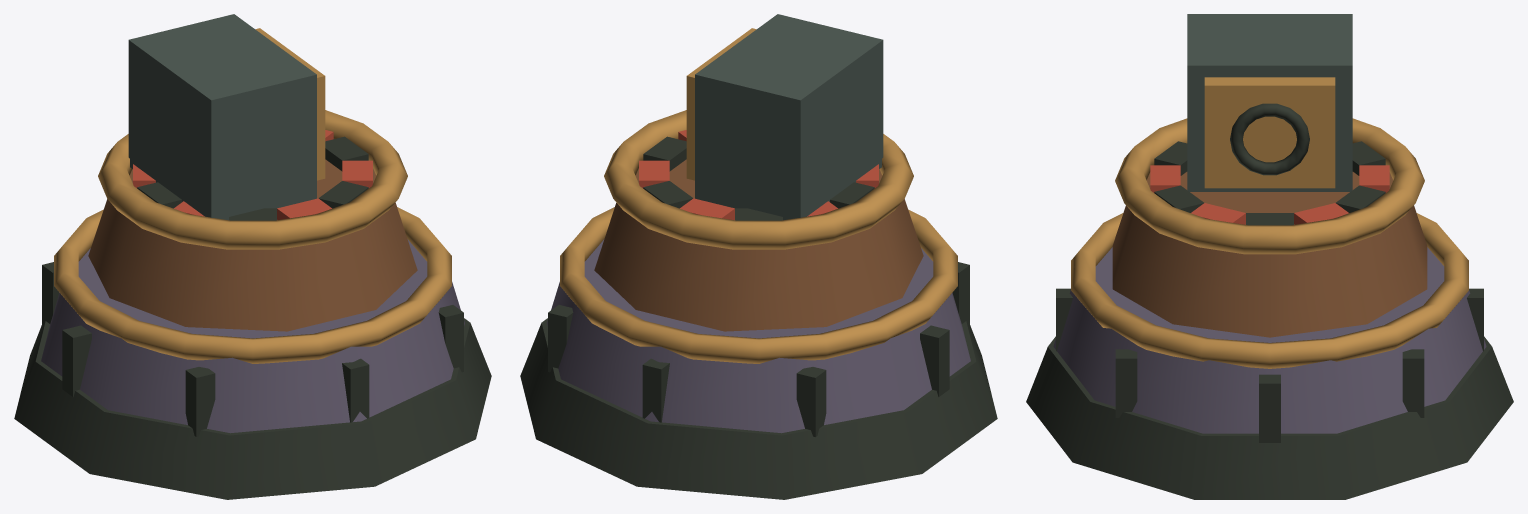
File: tower_gamble_gambleLoaded.glb
3 renders of one model, left to right at view 1: azimuth 30°, elevation 25°; view 2: azimuth 150°, elevation 25°; view 3: azimuth 270°, elevation 25°, orthographic.
Visible parts, largest first — view 1: foot_0, vault_25, stone_1, table_11, rim_2, roulette_rim_12, mortar_6, mortar_7, mortar_5, vault_door_26, mortar_4, pocket_16 (+5 smaller); view 2: foot_0, vault_25, stone_1, table_11, rim_2, roulette_rim_12, mortar_8, mortar_7, mortar_9, vault_door_26, mortar_10, pocket_16 (+5 smaller); view 3: foot_0, stone_1, table_11, vault_25, rim_2, roulette_rim_12, vault_door_26, safe_lock_27, mortar_3, mortar_4, mortar_10, pocket_14 (+10 smaller).
Boxes of the visible parts, x1,y1,x2,y2 form: foot_0: (14, 318, 491, 499); vault_25: (128, 14, 316, 220); stone_1: (41, 239, 464, 433); table_11: (88, 159, 417, 331); rim_2: (54, 207, 451, 363); roulette_rim_12: (98, 110, 407, 249); mortar_6: (185, 367, 215, 436); mortar_7: (62, 325, 91, 396); mortar_5: (342, 358, 369, 422); vault_door_26: (255, 28, 325, 180); mortar_4: (438, 305, 463, 372); pocket_16: (325, 136, 368, 171); foot_0: (520, 318, 997, 499); vault_25: (695, 14, 883, 220); stone_1: (547, 239, 970, 433); table_11: (594, 159, 923, 331); rim_2: (560, 207, 957, 363); roulette_rim_12: (604, 110, 913, 249); mortar_8: (796, 367, 826, 436); mortar_7: (920, 325, 949, 396); mortar_9: (642, 358, 669, 422); vault_door_26: (686, 28, 756, 180); mortar_10: (548, 305, 573, 372); pocket_16: (643, 136, 686, 171); foot_0: (1026, 336, 1513, 499); stone_1: (1053, 247, 1486, 433); table_11: (1112, 172, 1427, 337); vault_25: (1187, 14, 1352, 191); rim_2: (1071, 213, 1468, 368); roulette_rim_12: (1115, 118, 1424, 254); vault_door_26: (1204, 77, 1335, 188); safe_lock_27: (1230, 103, 1309, 175); mortar_3: (1259, 374, 1280, 442); mortar_4: (1115, 349, 1137, 417); mortar_10: (1402, 349, 1424, 417); pocket_14: (1336, 185, 1385, 212).
Size of the model in its own units: 0.5326 by 0.44 by 0.56.
